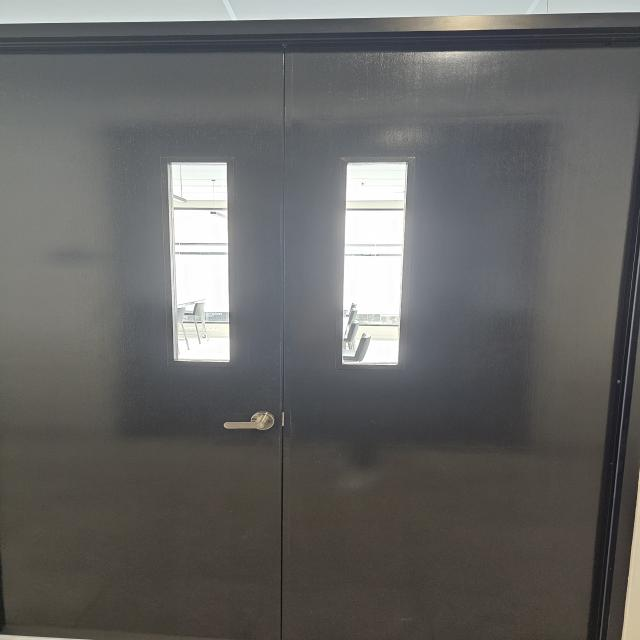door: (0, 22, 637, 637)
